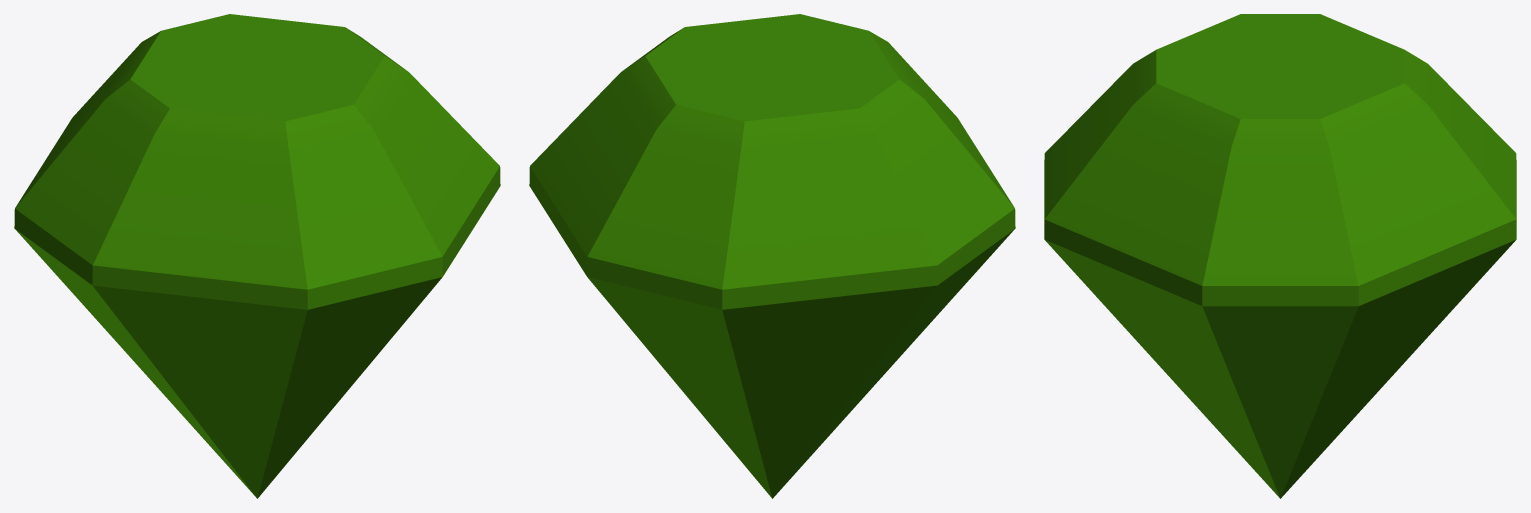
Rendered from gem-green.obj.
3 renders of one model, left to right at view 1: azimuth 30°, elevation 25°; view 2: azimuth 150°, elevation 25°; view 3: azimuth 270°, elevation 25°, orthographic.
Parts seen in each view (by area): view 1: Gem_Green_Cube.281; view 2: Gem_Green_Cube.281; view 3: Gem_Green_Cube.281.
Part boxes in pixels (<box>): Gem_Green_Cube.281: <box>14,14,500,498</box>; Gem_Green_Cube.281: <box>529,14,1015,498</box>; Gem_Green_Cube.281: <box>1044,14,1516,498</box>.
Bounding box in the file's own units: 1.5 × 1.51 × 1.5.
